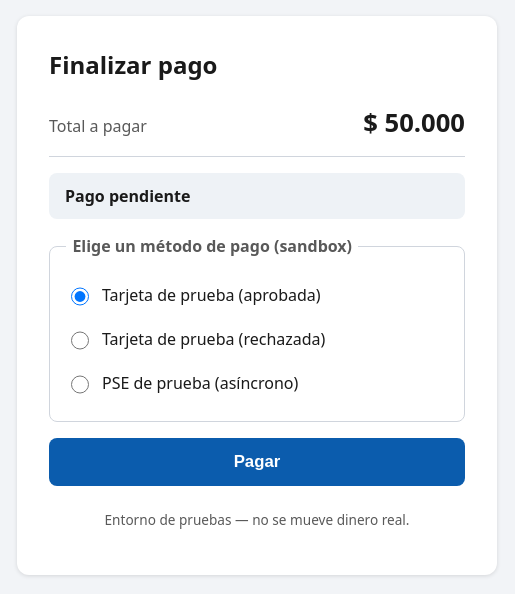
CheckoutClient › renders the amount and pending status (es), then pays and shows completed
Expected: the text with test id "amount" shows "50.000", [363,105,465,140]
Expected: the message with test id "status" reads "Pago pendiente", [65,185,190,207]
Click the button "Pagar".
click(257, 462)  # box [49,438,465,486]
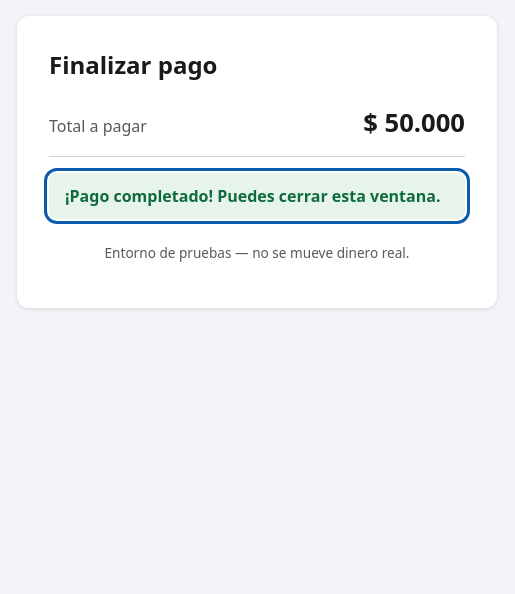
Expected: the message with test id "status" shows "Pago completado", [65,185,440,207]
